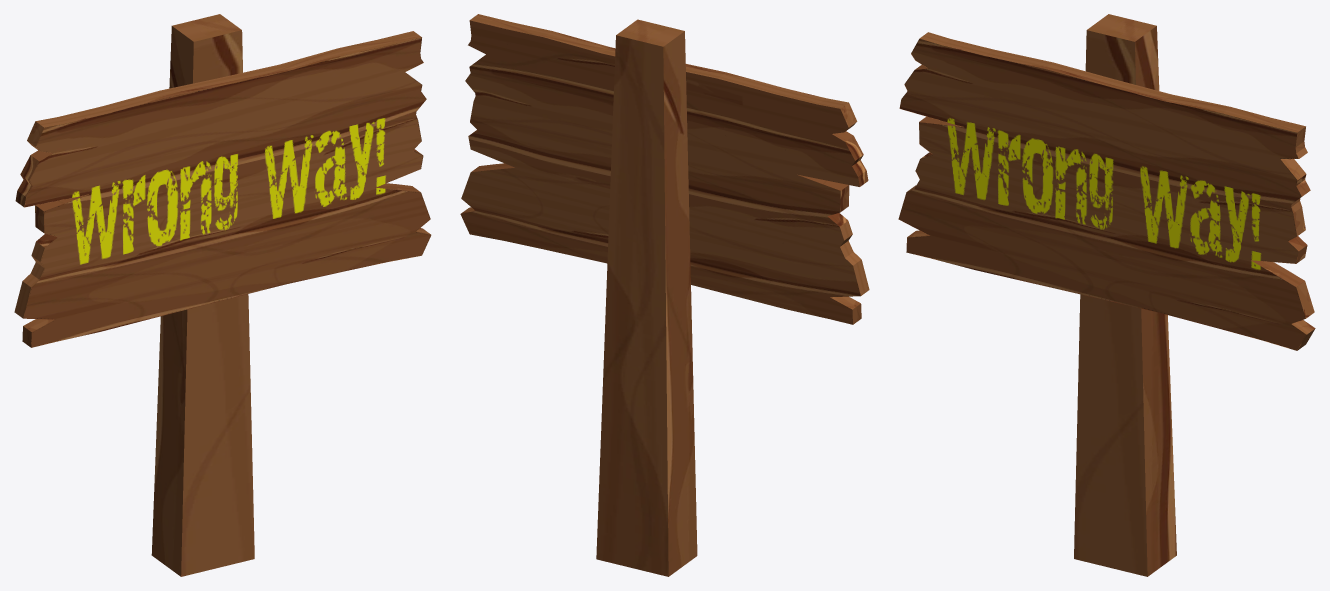
Rendered from Wood Info Sign.fbx.
3 views of the same model, side by side, from view 1: azimuth 30°, elevation 25°; view 2: azimuth 150°, elevation 25°; view 3: azimuth 330°, elevation 25° (orthographic).
Visible parts, largest first — view 1: Cube.001, Cube; view 2: Cube.001, Cube; view 3: Cube.001, Cube.
Boxes of the visible parts, x1,y1,x2,y2 form: Cube.001: (14, 31, 431, 347); Cube: (151, 14, 254, 576); Cube.001: (460, 14, 869, 324); Cube: (596, 19, 697, 576); Cube.001: (898, 32, 1315, 350); Cube: (1074, 14, 1176, 576).
Size of the model in its own units: 402 by 500 by 65.
